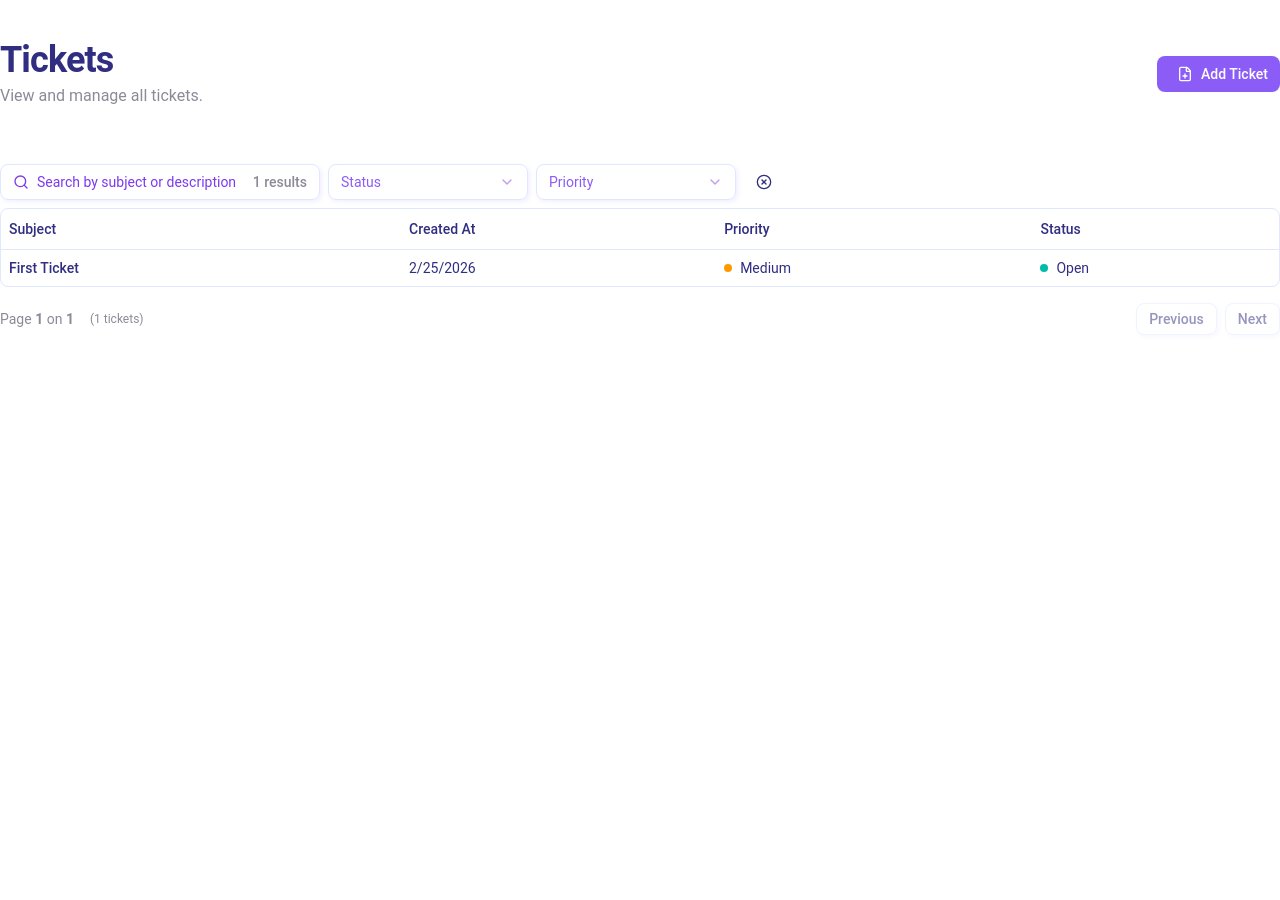
Test: TicketsPage › opens dialog and adds a new ticket to the list
This screenshot has width=1280, height=900.
Click the button "Add Ticket" at (1218, 74), box top-left (1157, 56), bottom-right (1279, 92)
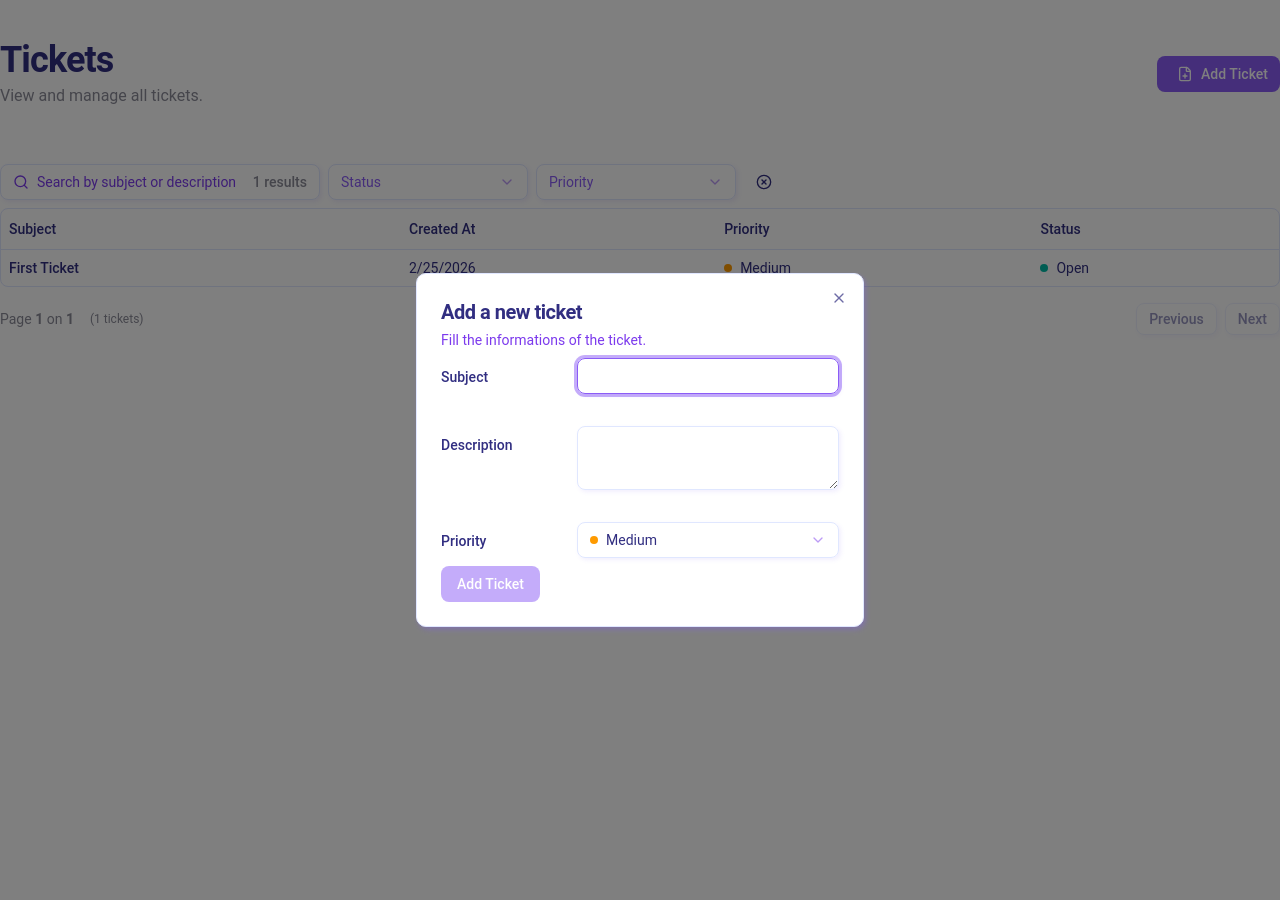
Now the field labelled "Subject" is shown
Type "Second Ticket" into the field labelled "Subject" at (708, 376), box top-left (577, 358), bottom-right (839, 394)
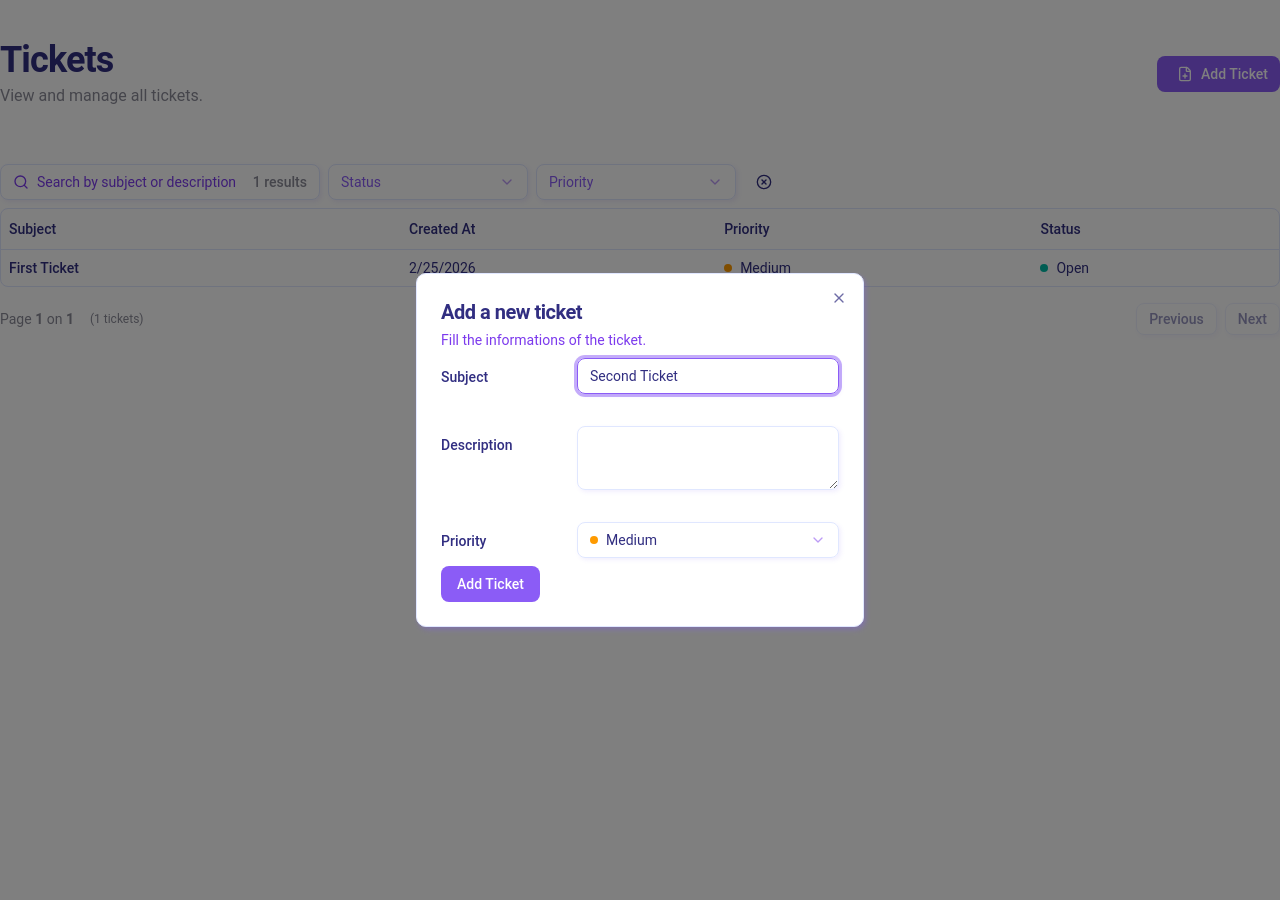
Now the text box labelled "Description" is shown
Type "Second Ticket Description" into the text box labelled "Description" at (708, 458), box top-left (577, 426), bottom-right (839, 490)
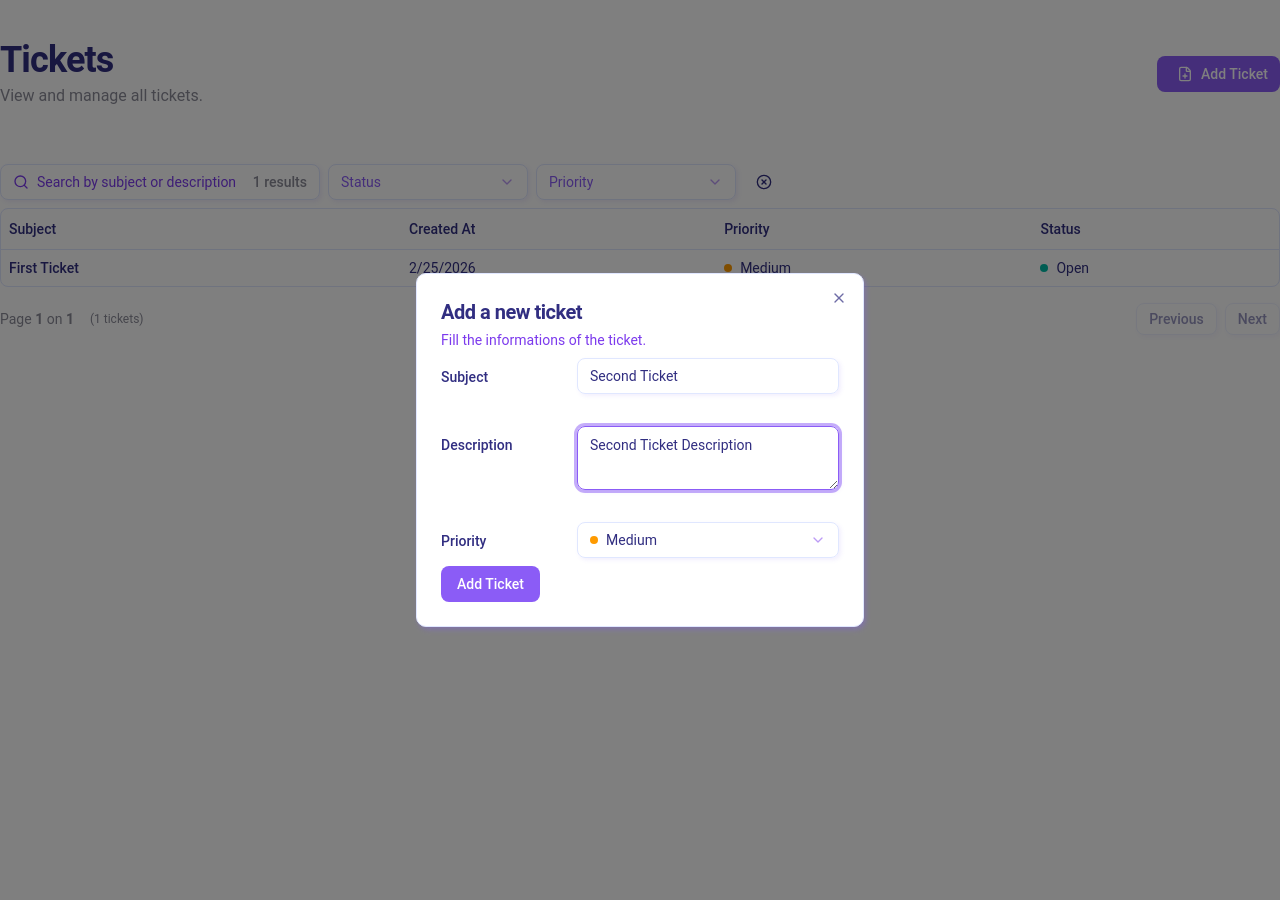
Now the dropdown named "priority" is shown
Click the dropdown named "priority" at (631, 540), box top-left (577, 522), bottom-right (839, 558)
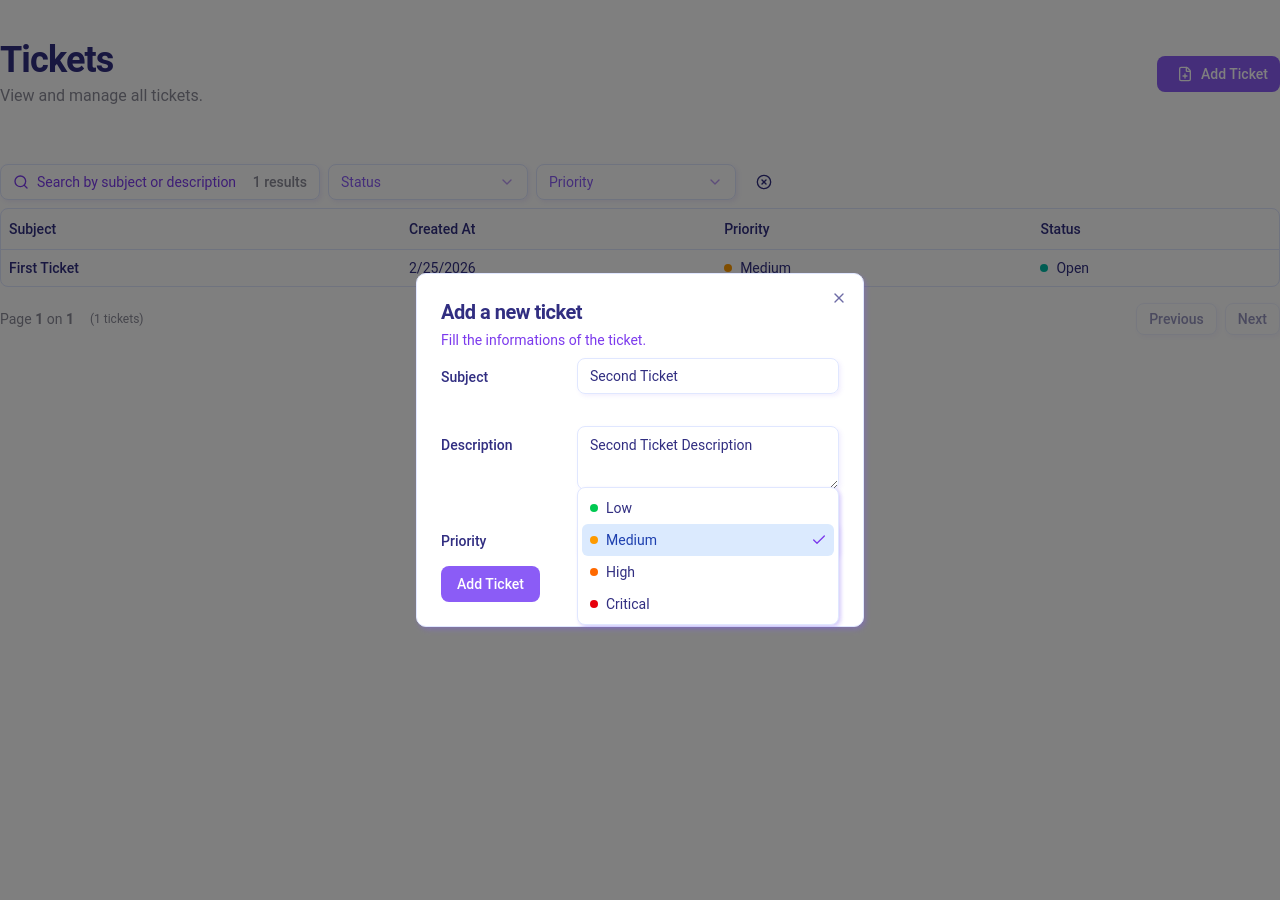
Click the option "Low" at (611, 508), box top-left (590, 500), bottom-right (632, 516)
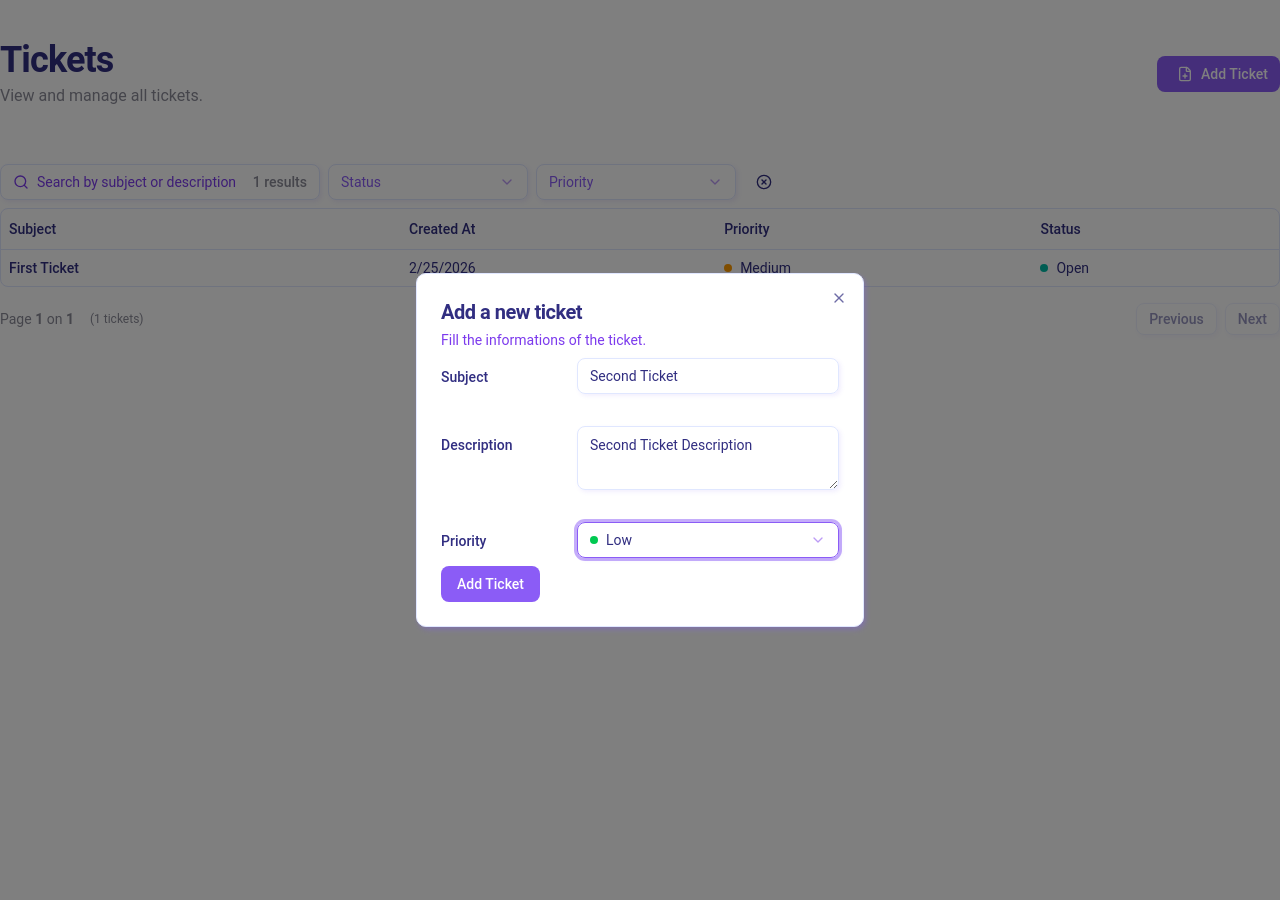
Now the dropdown named "priority" reads "Low", box top-left (577, 522), bottom-right (839, 558)
Click the button "Add Ticket" at (490, 584), box top-left (441, 566), bottom-right (540, 602)
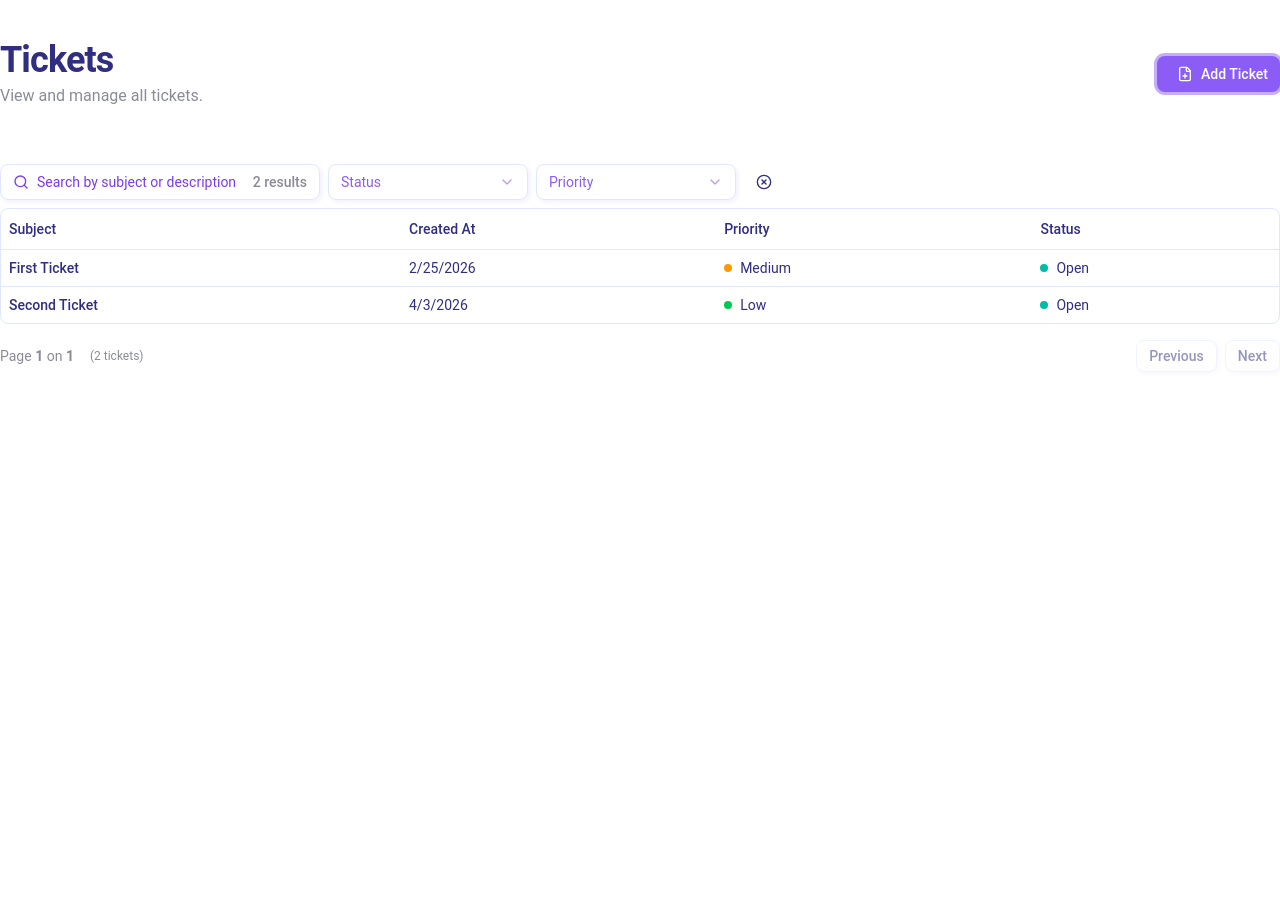
Now the text "Second Ticket" is shown, box top-left (9, 296), bottom-right (98, 312)
Now the heading "Add a new ticket" is gone
